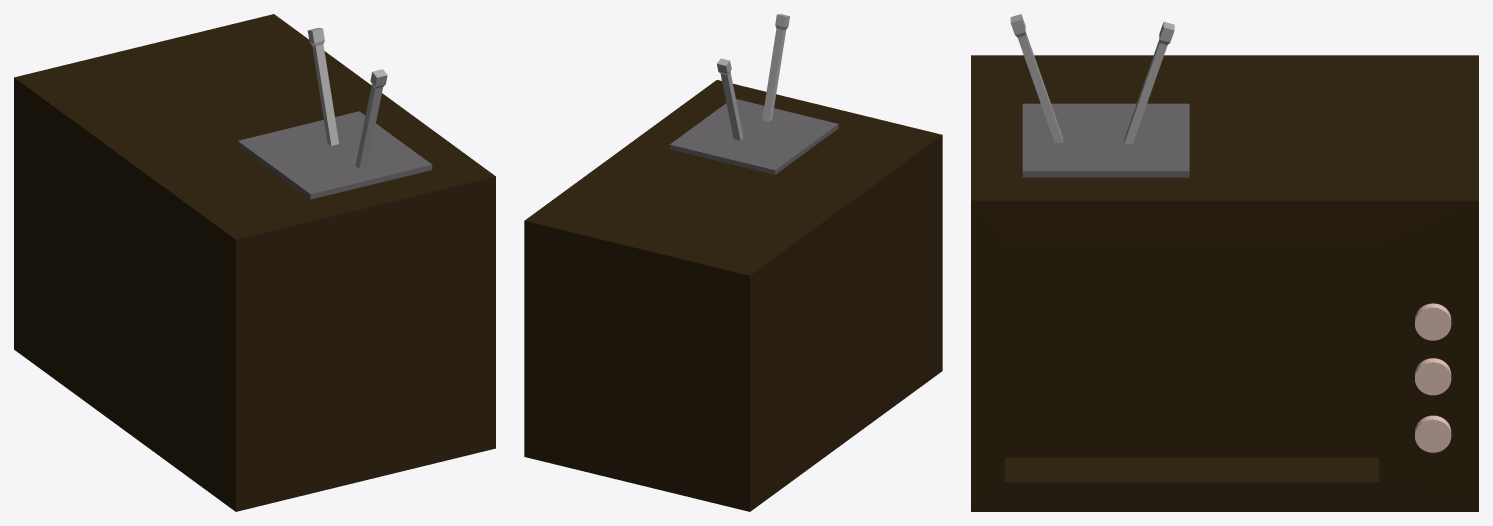
3 views of the same model, side by side, from view 1: azimuth 30°, elevation 25°; view 2: azimuth 150°, elevation 25°; view 3: azimuth 270°, elevation 25° (orthographic). The views are drawn at different scales.
Visible parts, largest first — view 1: Cube, Cube.002, Cube.003, Cube.001; view 2: Cube, Cube.002, Cube.001, Cube.003; view 3: Cube, Cube.002, Cube.001, Cube.003, Cylinder, Cylinder.001, Cylinder.002.
Boxes of the visible parts, x1=… form: Cube: x1=14, y1=14, x2=495, y2=511; Cube.002: x1=237, y1=111, x2=432, y2=199; Cube.003: x1=307, y1=27, x2=338, y2=145; Cube.001: x1=355, y1=69, x2=387, y2=168; Cube: x1=524, y1=80, x2=942, y2=511; Cube.002: x1=669, y1=99, x2=838, y2=174; Cube.001: x1=762, y1=14, x2=789, y2=121; Cube.003: x1=717, y1=58, x2=743, y2=140; Cube: x1=971, y1=55, x2=1478, y2=511; Cube.002: x1=1022, y1=103, x2=1189, y2=177; Cube.001: x1=1010, y1=14, x2=1063, y2=142; Cube.003: x1=1124, y1=21, x2=1174, y2=144; Cylinder: x1=1415, y1=415, x2=1451, y2=452; Cylinder.001: x1=1415, y1=358, x2=1451, y2=395; Cylinder.002: x1=1415, y1=303, x2=1451, y2=340.
Bounding box in the file's own units: 2.04 × 2.8 × 2.92.
